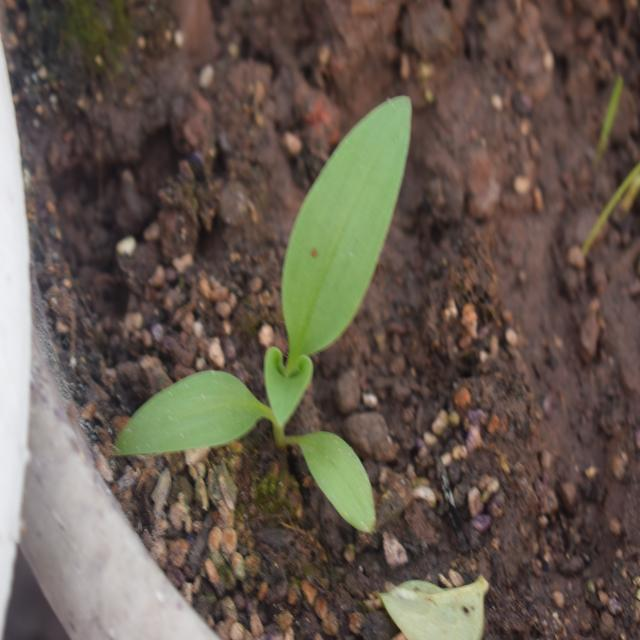Common Dayflower: (134, 107, 418, 558)
